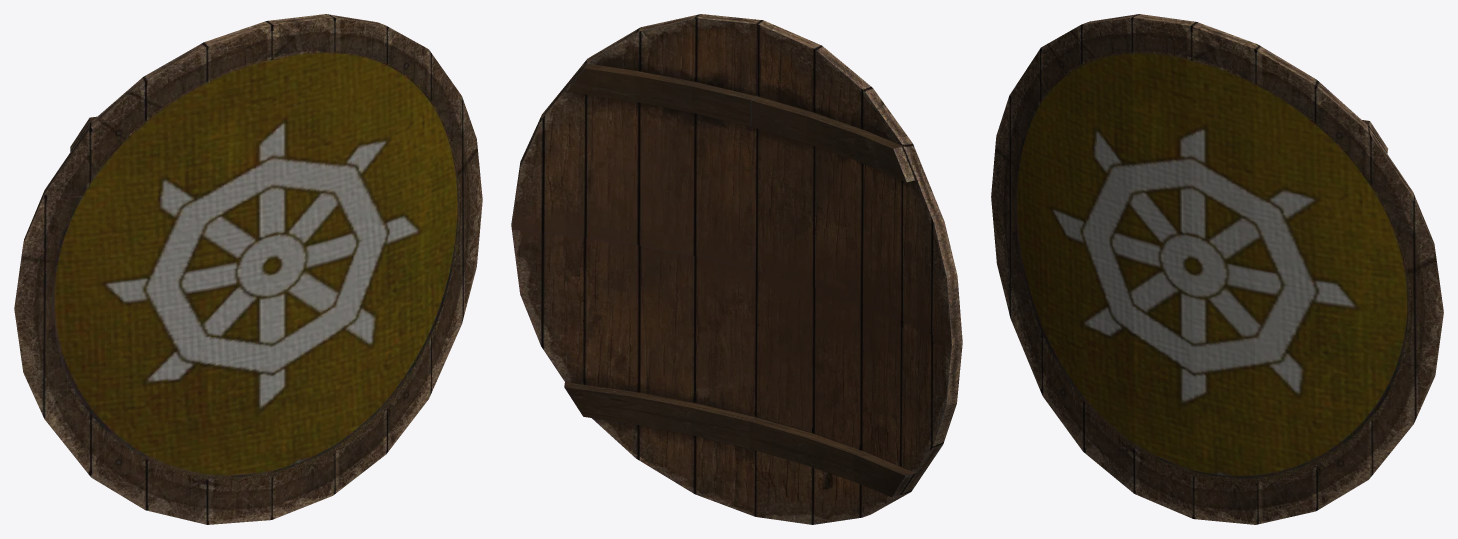
Rendered from DE_LARE_SHIELD_WODDEN.glb.
The picture shows the model from 3 angles, left to right: view 1: azimuth 30°, elevation 25°; view 2: azimuth 150°, elevation 25°; view 3: azimuth 330°, elevation 25°; orthographic projection.
Visible parts, largest first — view 1: DE_LARE_SHIELD_WODDEN; view 2: DE_LARE_SHIELD_WODDEN; view 3: DE_LARE_SHIELD_WODDEN.
Boxes of the visible parts, x1,y1,x2,y2 form: DE_LARE_SHIELD_WODDEN: [14, 14, 482, 524]; DE_LARE_SHIELD_WODDEN: [511, 14, 962, 524]; DE_LARE_SHIELD_WODDEN: [991, 14, 1443, 524].
Bounding box in the file's own units: 0.7326 × 0.752 × 0.0909.
1 material, 1 textured.
